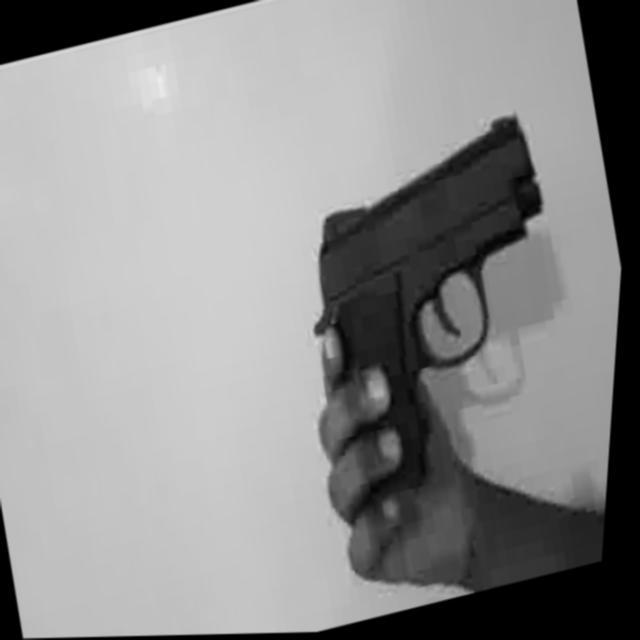weapon: (270, 106, 609, 509)
